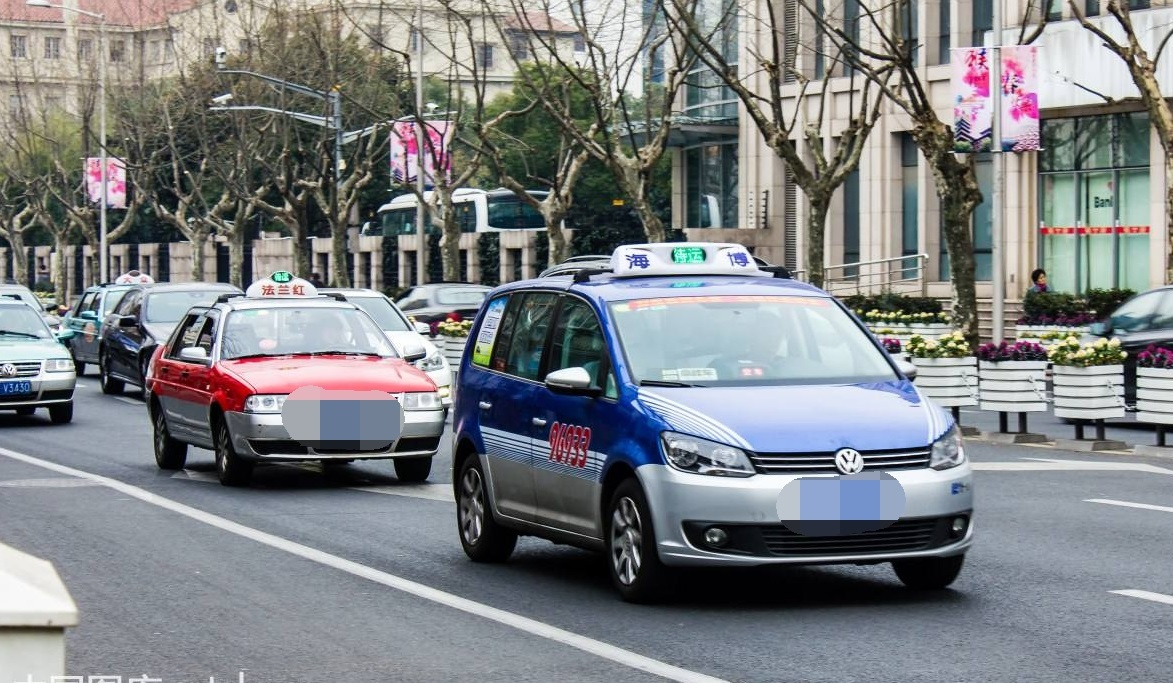taxi: (476, 252, 1011, 613), (145, 278, 447, 500)
